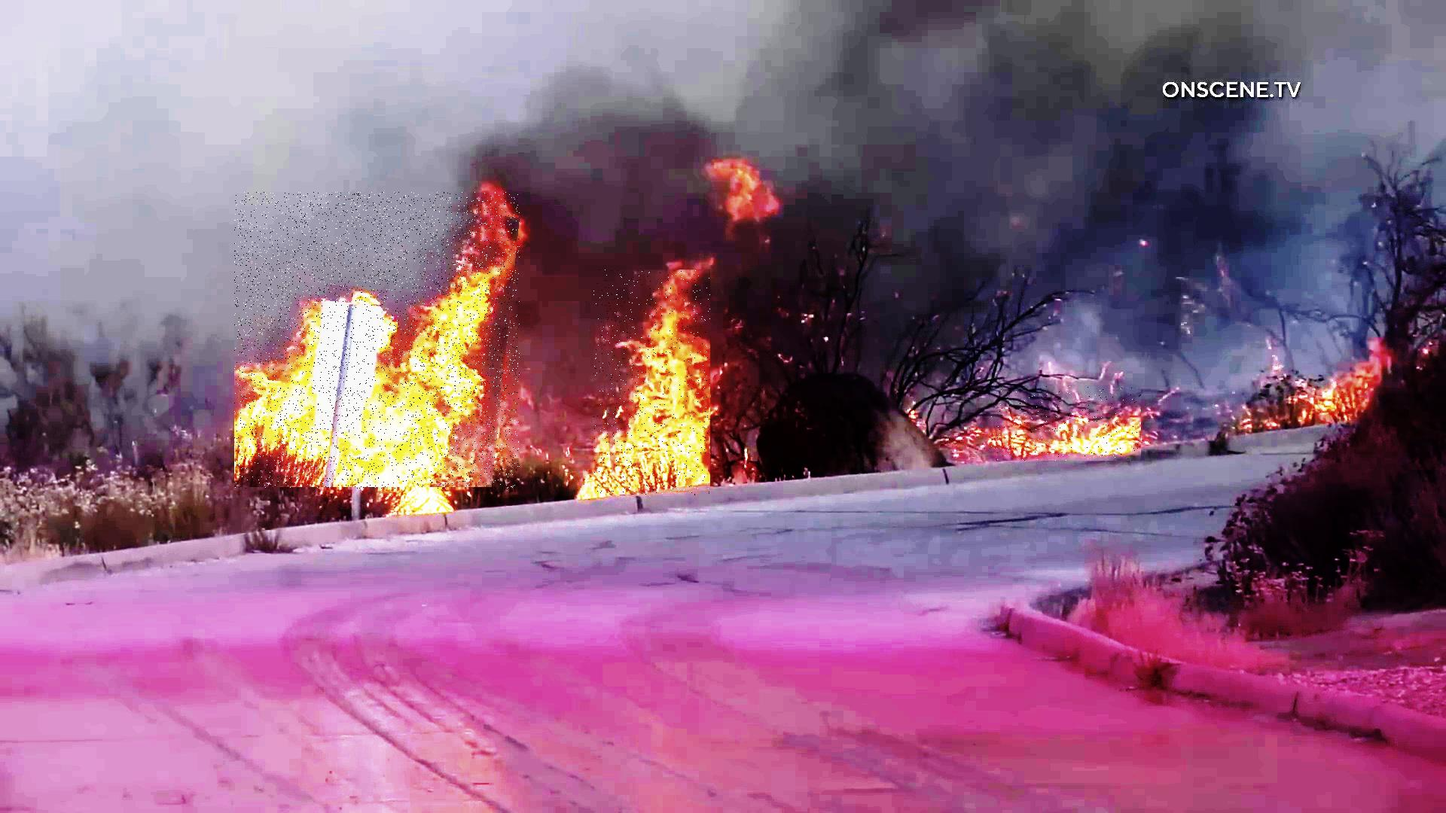fire: (234, 193, 520, 489), (593, 270, 710, 496), (991, 386, 1141, 461)
